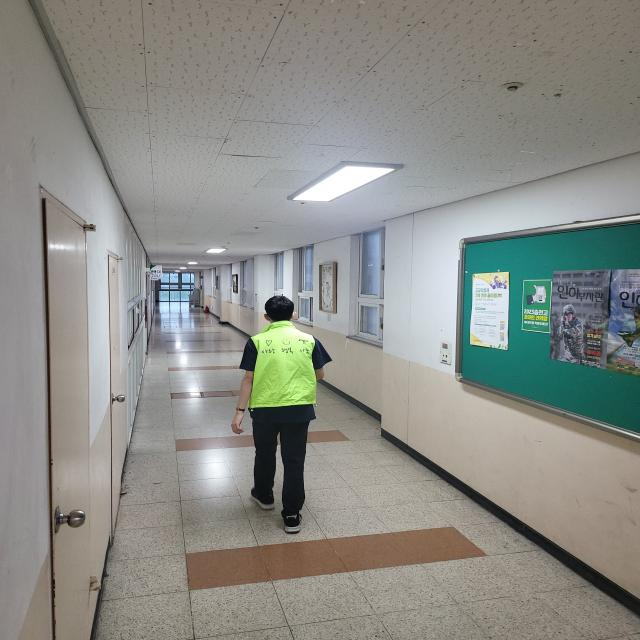weston_spy: (233, 312, 340, 423)
